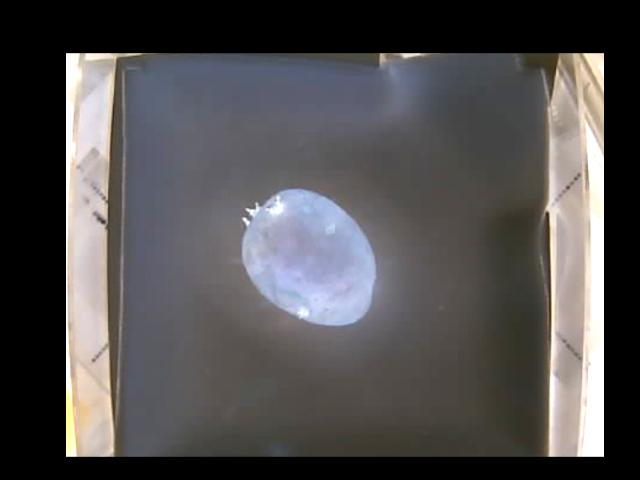Potato: (241, 187, 374, 323)
